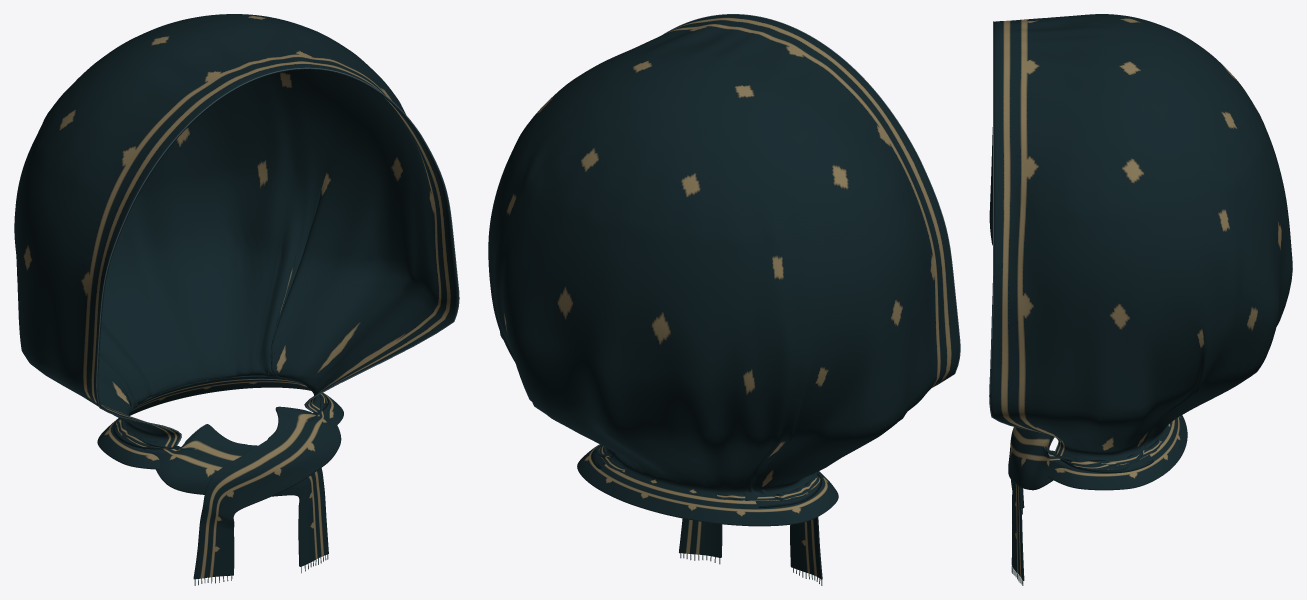
Rendered from Masculine-tshirt-pashmina237-headgear.glb.
3 renders of one model, left to right at view 1: azimuth 30°, elevation 25°; view 2: azimuth 150°, elevation 25°; view 3: azimuth 270°, elevation 25°, orthographic. The views are drawn at different scales.
Visible parts, largest first — view 1: 226 headgear / Headwear / continuous woven pashmina237, 226 headgear / Headwear / face edge237; view 2: 226 headgear / Headwear / continuous woven pashmina237, 226 headgear / Headwear / face edge237; view 3: 226 headgear / Headwear / continuous woven pashmina237, 226 headgear / Headwear / face edge237.
Boxes of the visible parts, x1,y1,x2,y2 form: 226 headgear / Headwear / continuous woven pashmina237: (14,14,458,579); 226 headgear / Headwear / face edge237: (96,67,459,444); 226 headgear / Headwear / continuous woven pashmina237: (488,14,959,579); 226 headgear / Headwear / face edge237: (663,14,960,387); 226 headgear / Headwear / continuous woven pashmina237: (989,14,1292,580); 226 headgear / Headwear / face edge237: (989,21,1059,450).
Bounding box in the file's own units: 1.03 × 1.35 × 0.7127.
3 materials, 1 textured.
